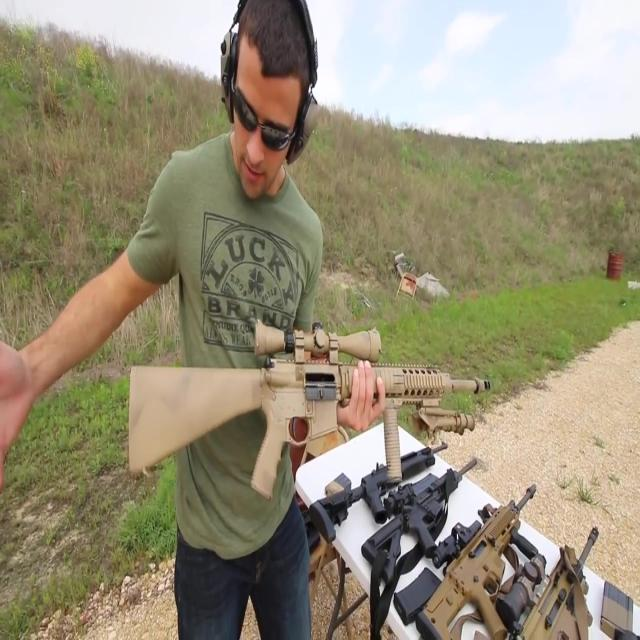Weapon: (98, 288, 540, 546), (264, 391, 640, 640)
